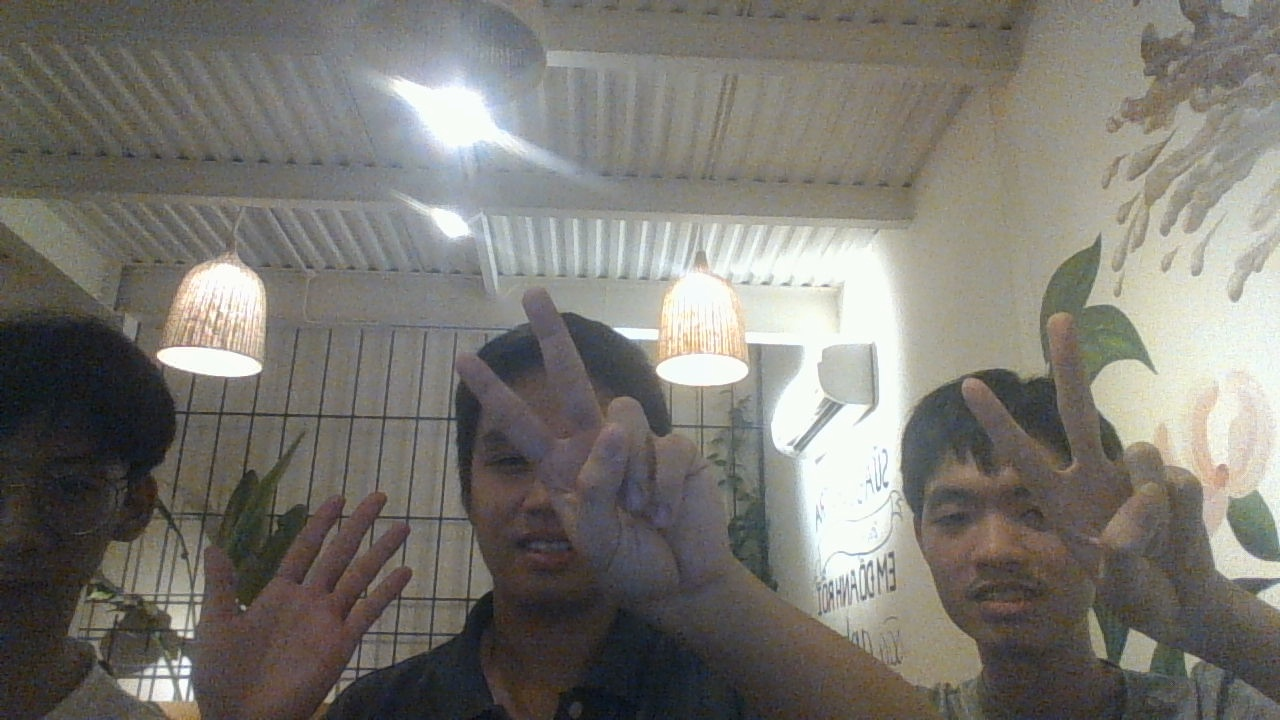check: (189, 485, 414, 717)
wait: (454, 288, 735, 613), (952, 308, 1217, 632)
